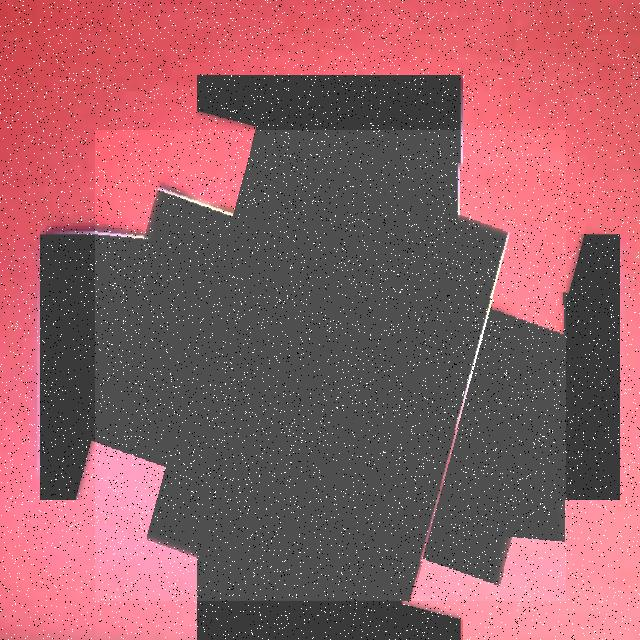lima puluh ribu rupiah: (95, 130, 566, 601)
